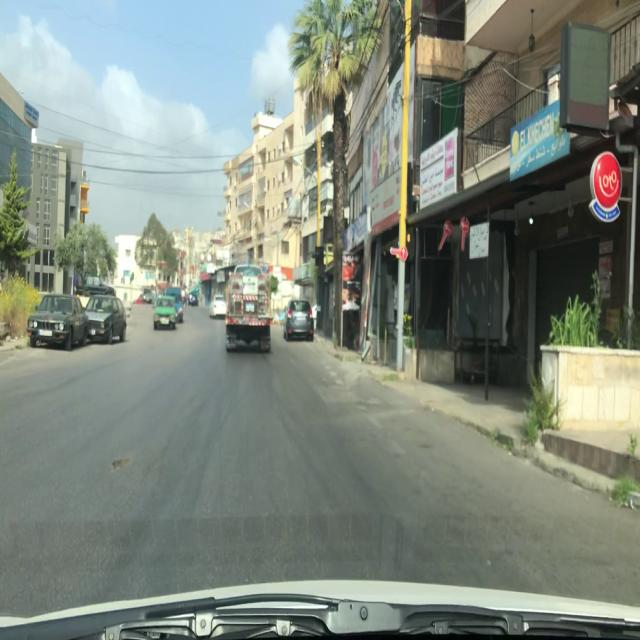Pothole: (108, 452, 133, 474)
